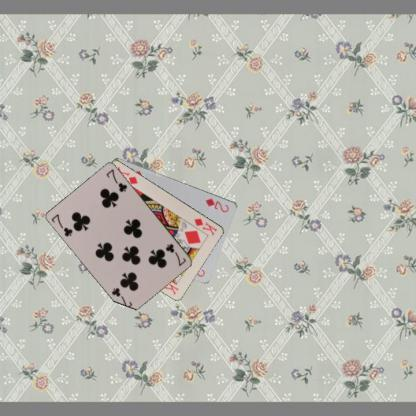2d: (203, 195, 230, 214)
7c: (163, 241, 188, 267), (49, 212, 74, 238)
Kd: (192, 215, 219, 237)
